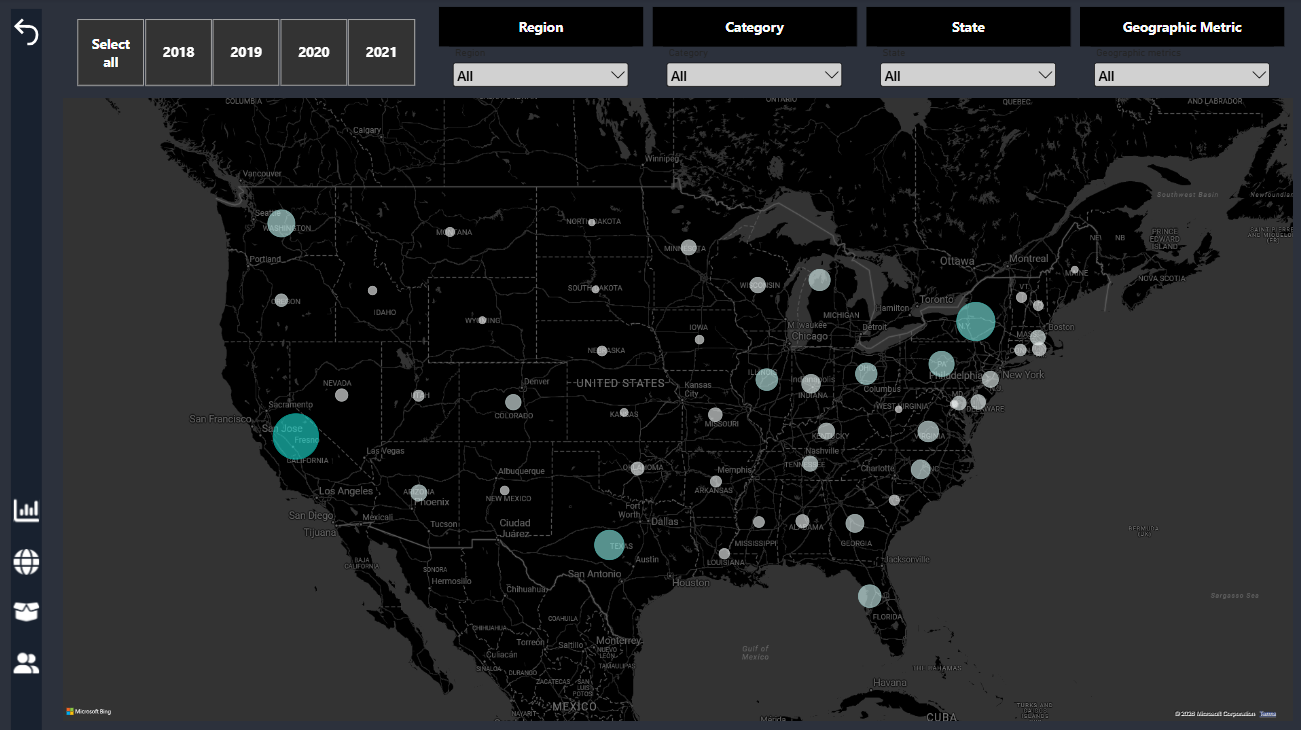

Layout of this report page (visuals, bound fields, positions):
{"tool":"powerbi","page":{"name":"Map","canvas":[1920,1080],"ordinal":1},"visuals":[{"type":"shape","box":[0,0,77.8,1080.4],"z":0},{"type":"map","fields":{"Category":["Orders.State"],"Size":["Measure.Total Sales"]},"box":[77.8,130.3,1842.2,950.1],"z":1000},{"type":"slicer","fields":{"Values":["Calendar.Year"]},"box":[77.8,12.7,568.2,117.6],"z":2000},{"type":"slicer","title":"Region","fields":{"Values":["Orders.Region"]},"box":[646,12.7,300.4,117.6],"z":3000},{"type":"slicer","title":"Category","fields":{"Values":["Orders.Category"]},"box":[960.9,12.7,300.4,117.6],"z":4000},{"type":"slicer","title":"State","fields":{"Values":["Orders.State"]},"box":[1275.8,12.7,300.4,117.6],"z":5000},{"type":"slicer","title":"Geographic Metric","fields":{"Values":["Geographic metrics.Geographic metrics"]},"box":[1590.7,12.7,300.4,117.6],"z":6000},{"type":"actionButton","box":[0,712,77.9,64.9],"z":7000},{"type":"actionButton","box":[0,862.1,77.9,64.9],"z":8000},{"type":"actionButton","box":[0,787,77.9,64.9],"z":9000},{"type":"actionButton","box":[0,937.1,77.9,64.9],"z":10000},{"type":"actionButton","box":[0,7.4,77.9,62.8],"z":11000}]}

Visuals, with their boxes on the page's 1920x1080 design canvas (x1, y1, x2, y2). These are canvas units, not pixel positions in the 1301x730 screenshot, which may show the page scaled, cropped or inside an application window:
shape: x1=0 y1=0 x2=78 y2=1080
map - Orders.State x Measure.Total Sales: x1=78 y1=130 x2=1920 y2=1080
slicer - Calendar.Year: x1=78 y1=13 x2=646 y2=130
"Region" slicer: x1=646 y1=13 x2=946 y2=130
"Category" slicer: x1=961 y1=13 x2=1261 y2=130
"State" slicer: x1=1276 y1=13 x2=1576 y2=130
"Geographic Metric" slicer: x1=1591 y1=13 x2=1891 y2=130
actionButton: x1=0 y1=712 x2=78 y2=777
actionButton: x1=0 y1=862 x2=78 y2=927
actionButton: x1=0 y1=787 x2=78 y2=852
actionButton: x1=0 y1=937 x2=78 y2=1002
actionButton: x1=0 y1=7 x2=78 y2=70
